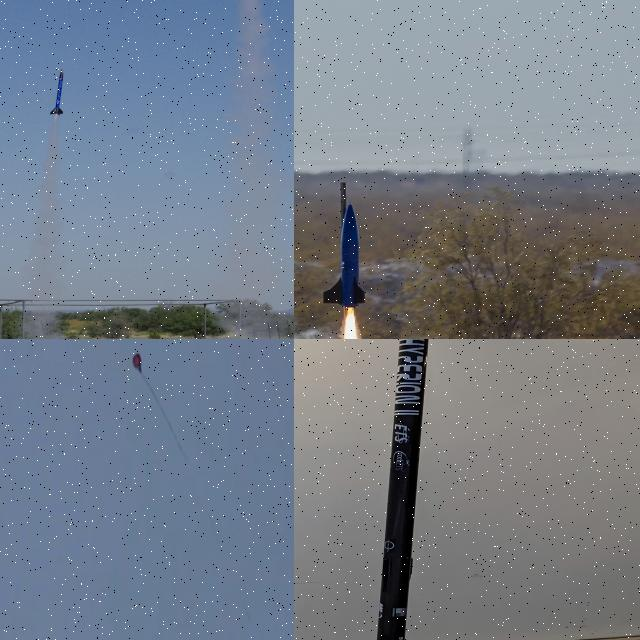Rocket: (377, 339, 429, 640), (322, 198, 367, 310), (50, 69, 64, 115)
